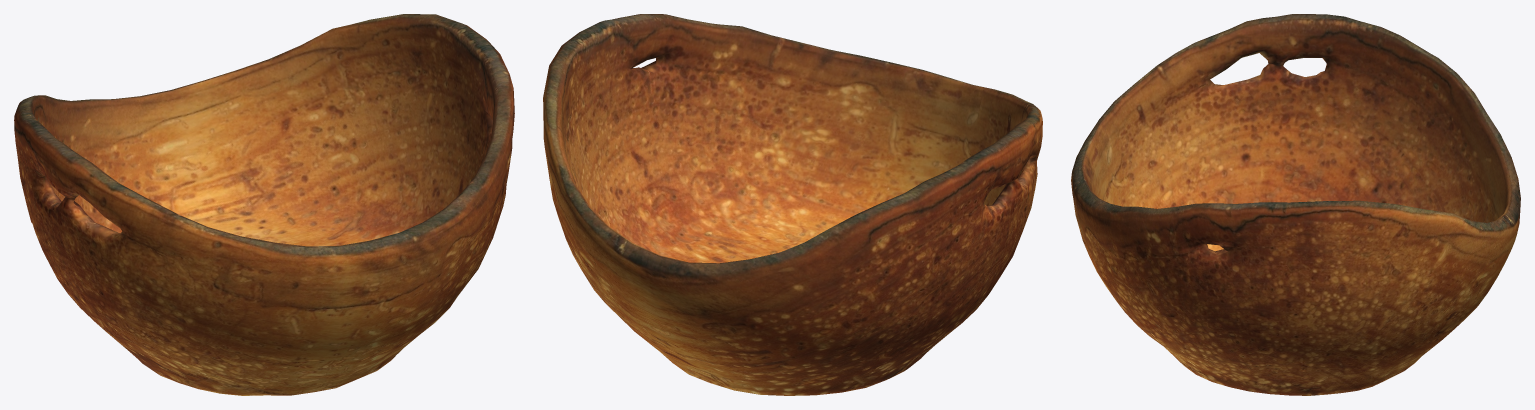
The model's file is wooden_bowl_02.glb.
3 renders of one model, left to right at view 1: azimuth 30°, elevation 25°; view 2: azimuth 150°, elevation 25°; view 3: azimuth 270°, elevation 25°, orthographic. The views are drawn at different scales.
Visible parts, largest first — view 1: wooden_bowl_02; view 2: wooden_bowl_02; view 3: wooden_bowl_02.
Boxes of the visible parts, box(x1,y1,x2,y2) form: wooden_bowl_02: box(14, 14, 514, 395); wooden_bowl_02: box(543, 14, 1042, 395); wooden_bowl_02: box(1071, 14, 1520, 395).
Size of the model in its own units: 0.1307 by 0.0731 by 0.1245.
Materials: 1 (1 with a texture image).
